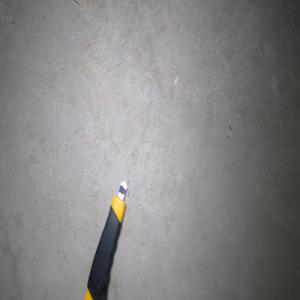Cutter: (84, 180, 128, 300)
